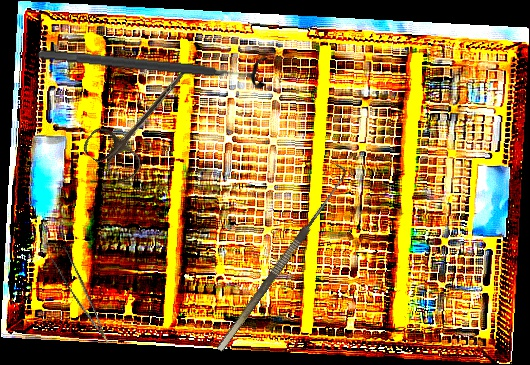Fixation Ring: (35, 36, 270, 92)
Hook Surgical: (206, 162, 353, 353)
Iris Scissors: (79, 44, 211, 186)
Tissue Forceps: (47, 243, 110, 351)
